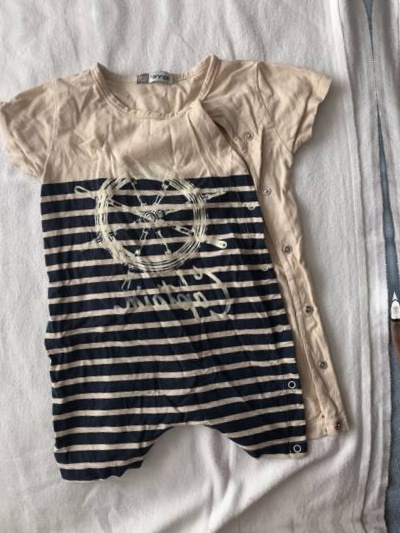Body: (0, 25, 382, 490), (398, 0, 400, 452)
